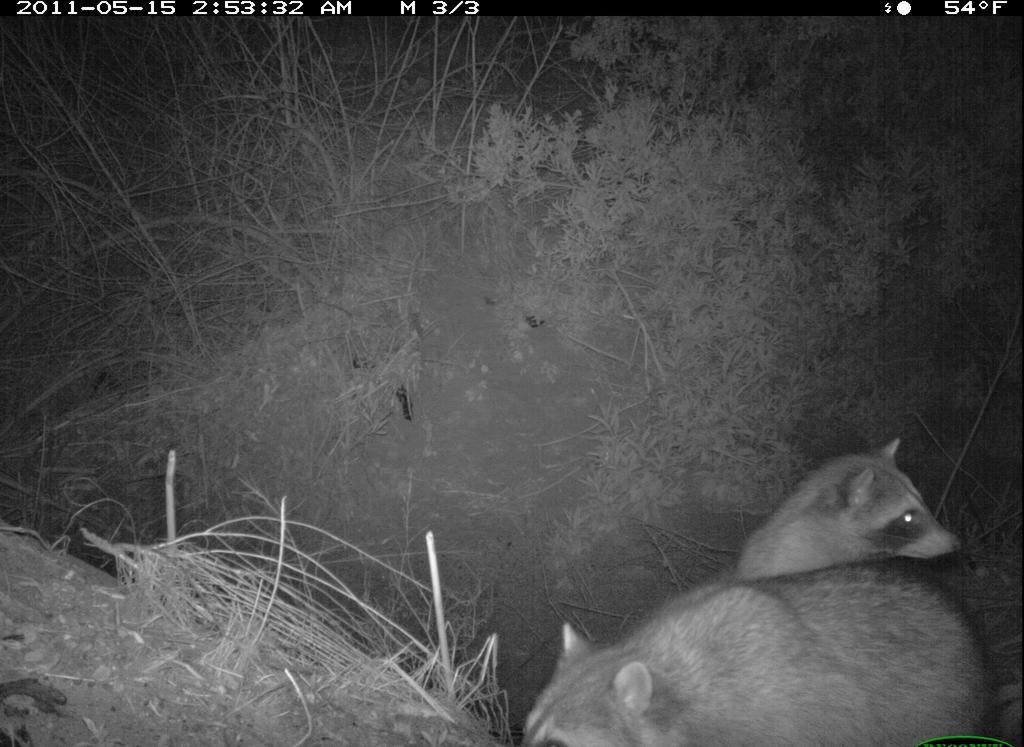raccoon: (509, 545, 1008, 747), (726, 429, 972, 579)
